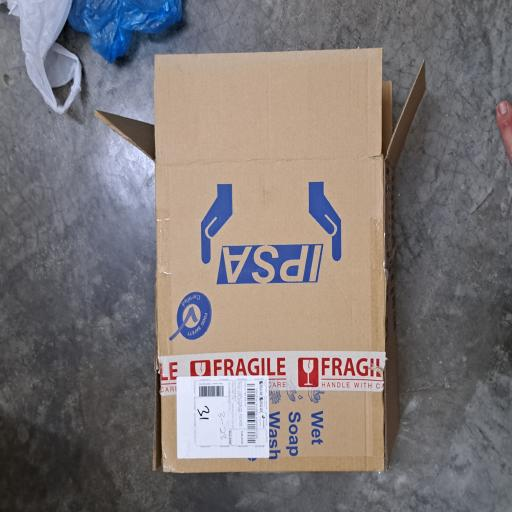cardboard: (28, 125, 348, 512)
plastic bag: (298, 7, 384, 110), (333, 90, 384, 244)
